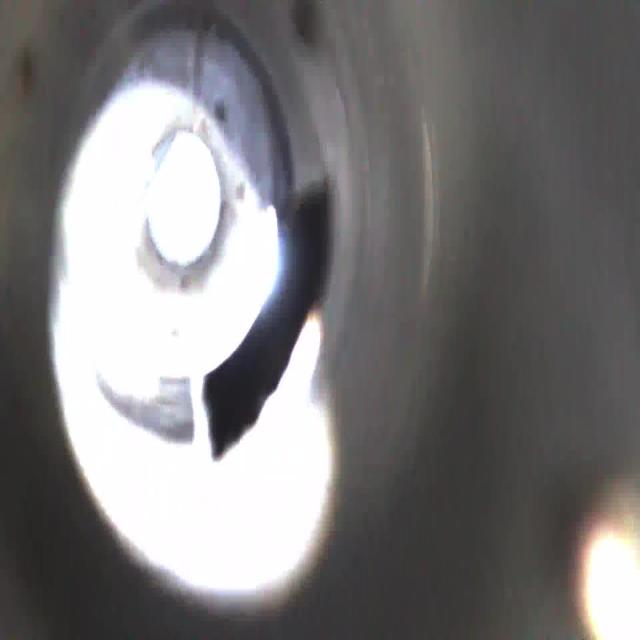hole: (194, 170, 344, 488)
